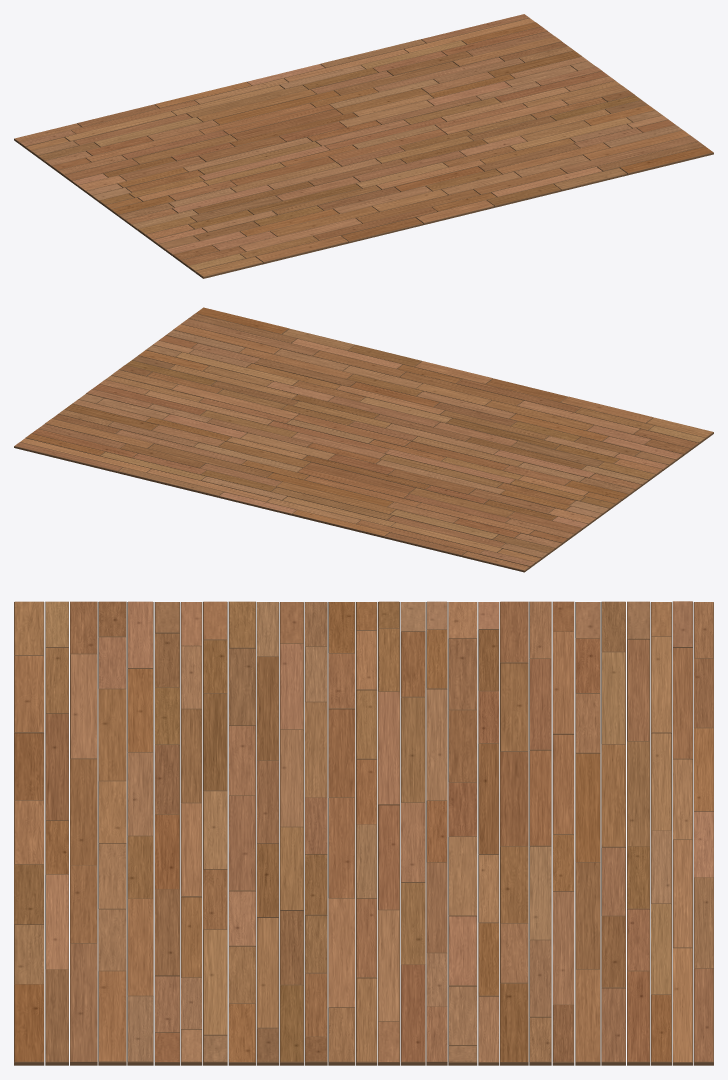
File: oak-plank-floor.glb
3 views of the same model, one above another, from view 1: azimuth 30°, elevation 25°; view 2: azimuth 150°, elevation 25°; view 3: azimuth 270°, elevation 25° (orthographic). The views are drawn at different scales.
Parts seen in each view (by area): view 1: OakPlankFloor; view 2: OakPlankFloor; view 3: OakPlankFloor.
Boxes of the visible parts, x1,y1,x2,y2 form: OakPlankFloor: [14, 14, 713, 278]; OakPlankFloor: [14, 307, 713, 572]; OakPlankFloor: [14, 601, 713, 1065].
Size of the model in its own units: 13.99 by 0.054 by 8.99.
2 materials, 1 textured.
